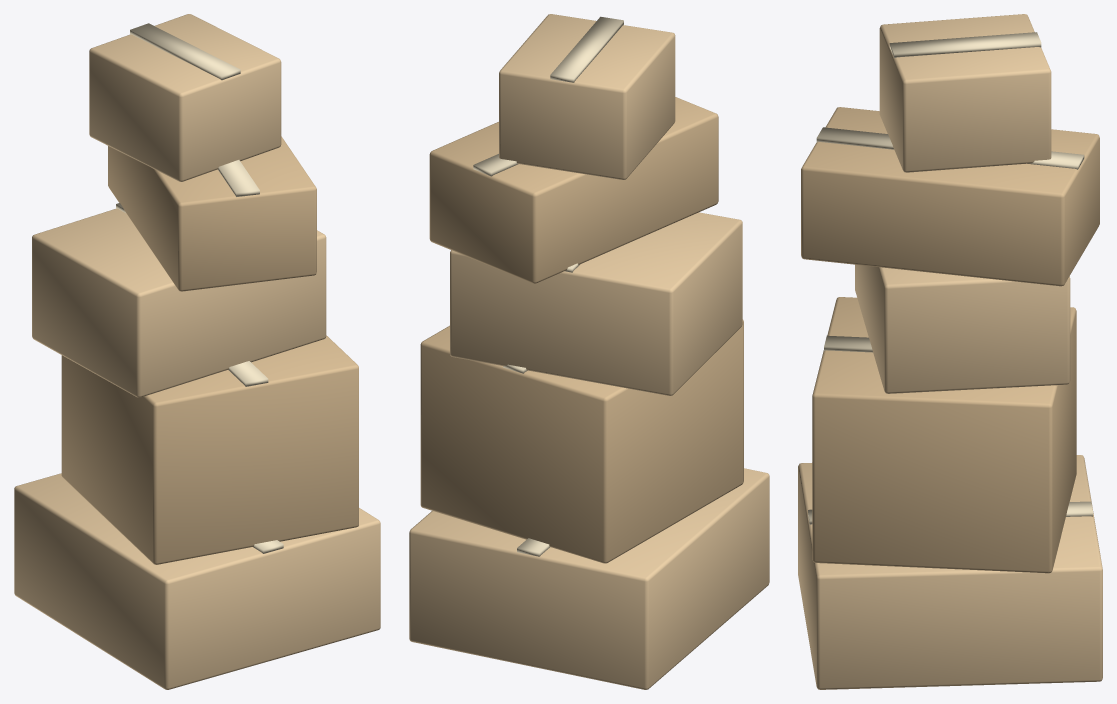
File: CardboardBoxes.glb
The picture shows the model from 3 angles, left to right: view 1: azimuth 30°, elevation 25°; view 2: azimuth 150°, elevation 25°; view 3: azimuth 270°, elevation 25°; orthographic projection. The views are drawn at different scales.
Visible parts, largest first — view 1: CardboardBoxes; view 2: CardboardBoxes; view 3: CardboardBoxes.
Part boxes in pixels (x1,y1,x2,y2): CardboardBoxes: (14,14,380,689); CardboardBoxes: (409,14,769,689); CardboardBoxes: (798,14,1102,689).
Size of the model in its own units: 0.9745 by 2.13 by 1.01.
